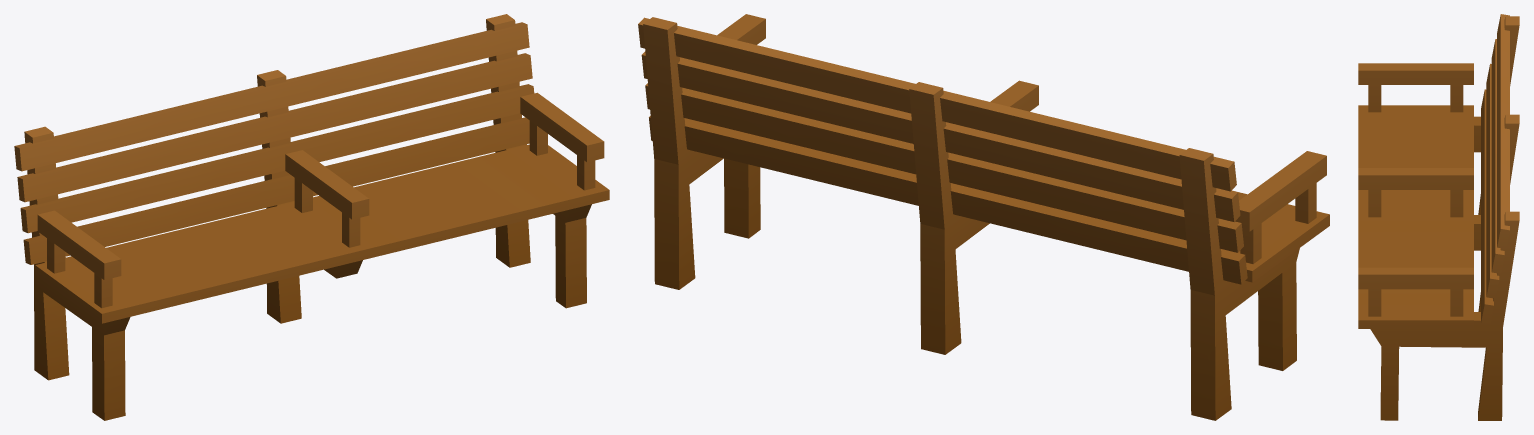
The model's file is Bench.fbx.
3 views of the same model, side by side, from view 1: azimuth 30°, elevation 25°; view 2: azimuth 150°, elevation 25°; view 3: azimuth 270°, elevation 25° (orthographic). The views are drawn at different scales.
Visible parts, largest first — view 1: Bench; view 2: Bench; view 3: Bench.
Boxes of the visible parts, box(x1,y1,x2,y2) form: Bench: box(14, 14, 609, 420); Bench: box(638, 14, 1329, 420); Bench: box(1358, 14, 1519, 420).
Size of the model in its own units: 249 by 108 by 79.05.
